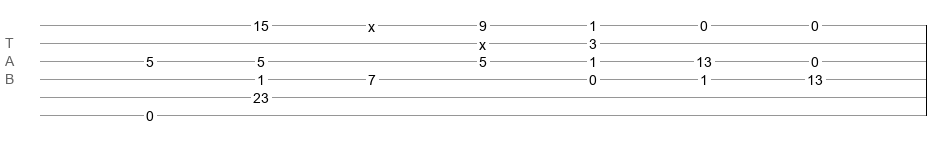0: (146, 108, 154, 118), (589, 72, 597, 82), (700, 18, 708, 28), (811, 54, 819, 64), (811, 18, 819, 28)
1: (257, 72, 265, 82), (589, 18, 597, 28), (589, 54, 597, 64), (700, 72, 708, 82)
13: (696, 54, 712, 64), (807, 72, 823, 82)
15: (253, 18, 269, 28)
23: (253, 90, 269, 100)
3: (589, 36, 597, 46)
5: (146, 54, 154, 64), (257, 54, 265, 64), (479, 54, 487, 64)
7: (368, 72, 376, 82)
9: (479, 18, 487, 28)
x: (368, 19, 375, 27), (479, 37, 486, 45)
